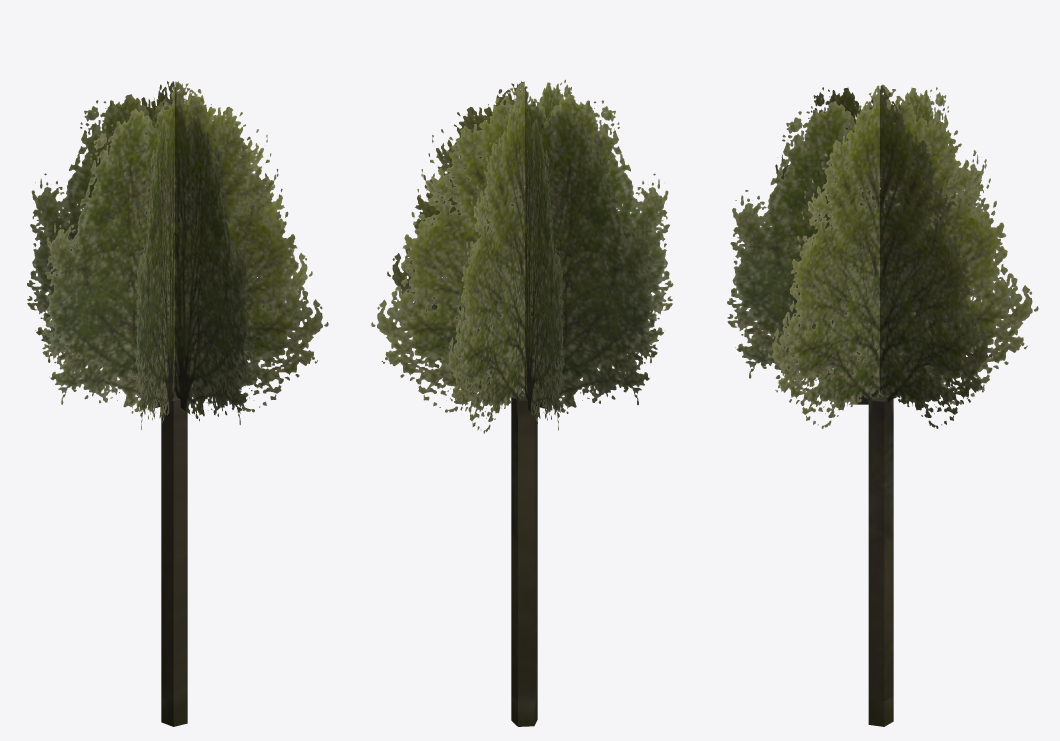
The model's file is Tree1.fbx.
The picture shows the model from 3 angles, left to right: view 1: azimuth 30°, elevation 25°; view 2: azimuth 150°, elevation 25°; view 3: azimuth 270°, elevation 25°; orthographic projection.
Parts seen in each view (by area): view 1: Tree1; view 2: Tree1; view 3: Tree1.
Part boxes in pixels (left/top/right/bottom): Tree1: left=27, top=81, right=328, bottom=726; Tree1: left=371, top=79, right=673, bottom=726; Tree1: left=727, top=84, right=1038, bottom=726.
Bounding box in the file's own units: 814 × 1728 × 814.
Materials: 1 (1 with a texture image).
